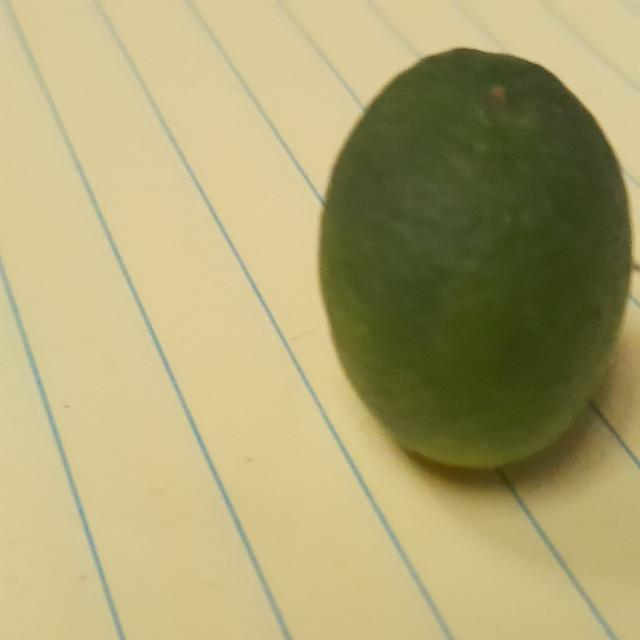heathy: (310, 42, 637, 474)
